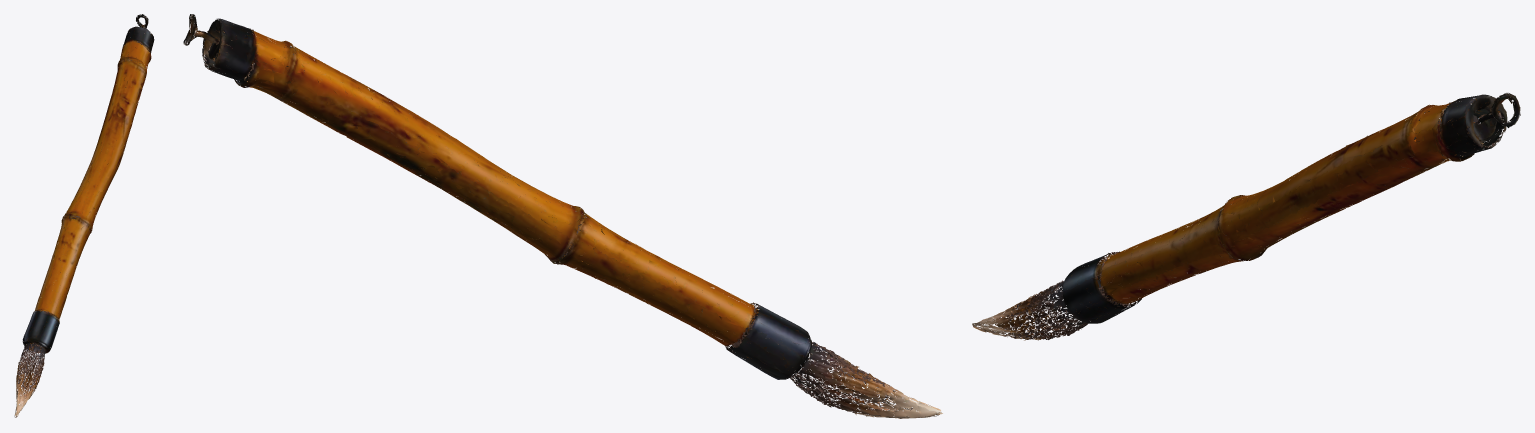
File: brush-mobile.glb
3 views of the same model, side by side, from view 1: azimuth 30°, elevation 25°; view 2: azimuth 150°, elevation 25°; view 3: azimuth 270°, elevation 25° (orthographic). The views are drawn at different scales.
Visible parts, largest first — view 1: brush_lux3d; view 2: brush_lux3d; view 3: brush_lux3d.
Boxes of the visible parts, x1=… form: brush_lux3d: x1=14, y1=14, x2=154, y2=417; brush_lux3d: x1=183, y1=14, x2=942, y2=418; brush_lux3d: x1=972, y1=93, x2=1520, y2=340.
Size of the model in its own units: 6.02 by 5.3 by 5.4.
1 material, 1 textured.
